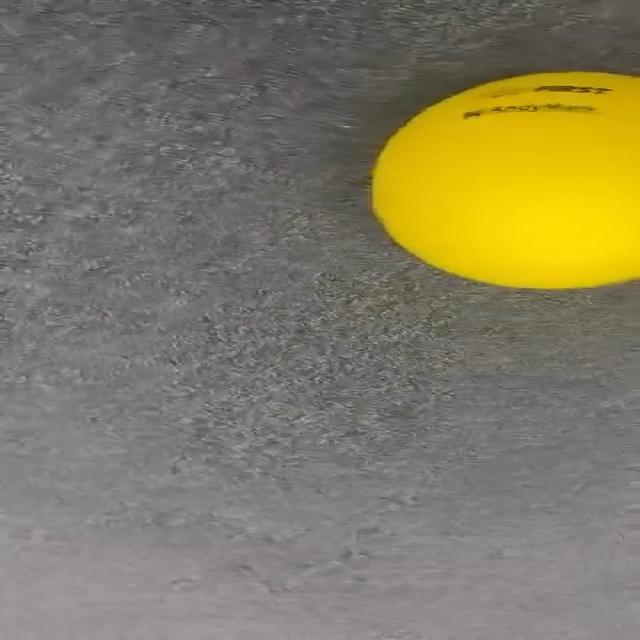Fuels: (377, 71, 638, 287)
